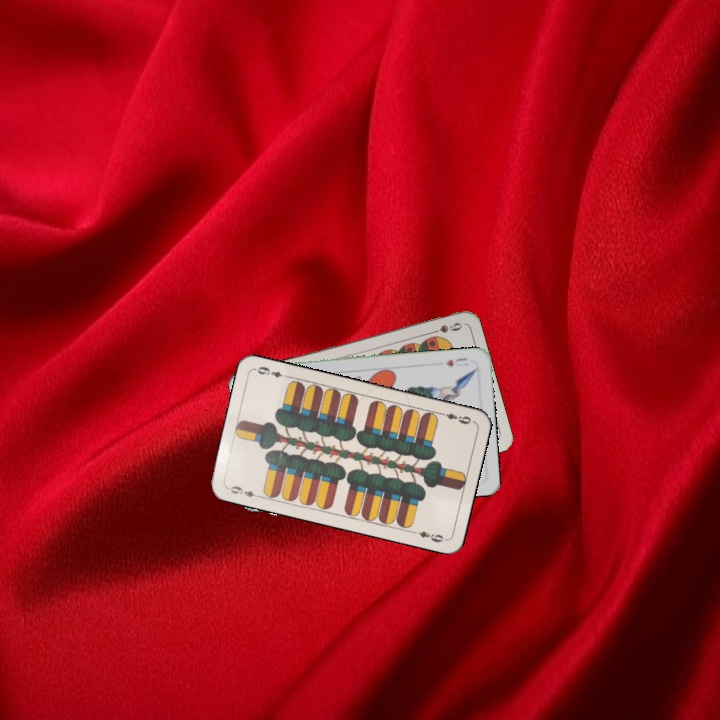E9: (435, 408, 474, 427), (224, 482, 264, 500)
HU: (442, 354, 471, 369)
S9: (425, 318, 465, 337)
